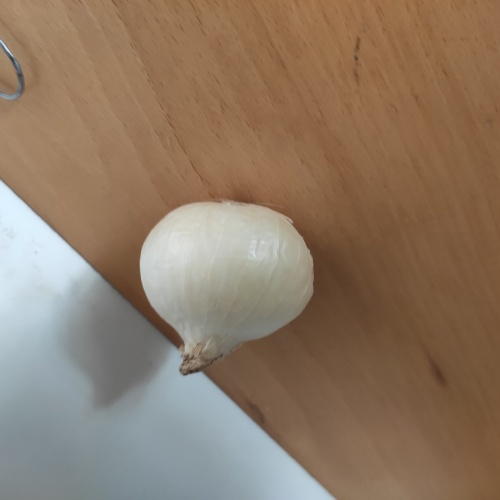cipolla: (128, 192, 323, 378)
